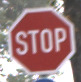stopsign: (8, 6, 75, 75)
